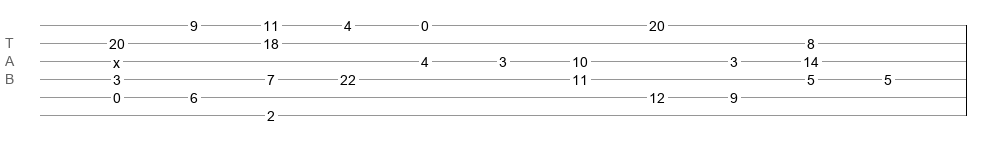0: (113, 90, 121, 100), (421, 18, 429, 28)
10: (572, 54, 588, 64)
11: (263, 18, 279, 28), (572, 72, 588, 82)
12: (649, 90, 665, 100)
14: (803, 54, 819, 64)
18: (263, 36, 279, 46)
2: (267, 108, 275, 118)
20: (109, 36, 125, 46), (649, 18, 665, 28)
22: (340, 72, 356, 82)
3: (113, 72, 121, 82), (499, 54, 507, 64), (730, 54, 738, 64)
4: (344, 18, 352, 28), (421, 54, 429, 64)
5: (807, 72, 815, 82), (884, 72, 892, 82)
6: (190, 90, 198, 100)
7: (267, 72, 275, 82)
8: (807, 36, 815, 46)
9: (190, 18, 198, 28), (730, 90, 738, 100)
x: (113, 55, 120, 63)
